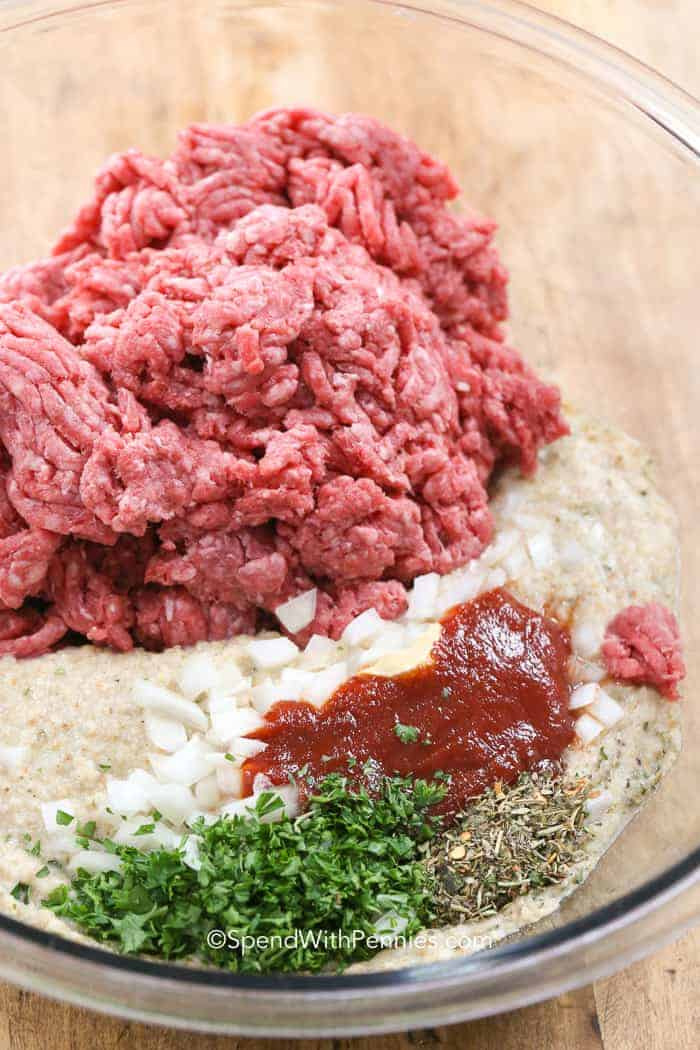ground_beef: (1, 118, 532, 602), (593, 577, 687, 703)
